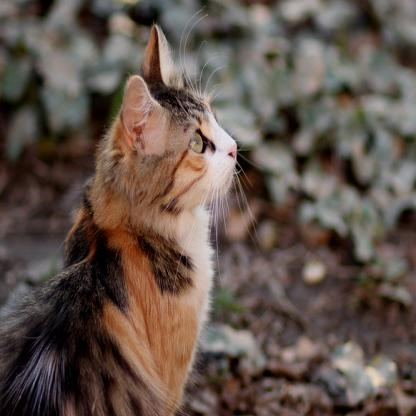cat: (0, 22, 240, 415)
